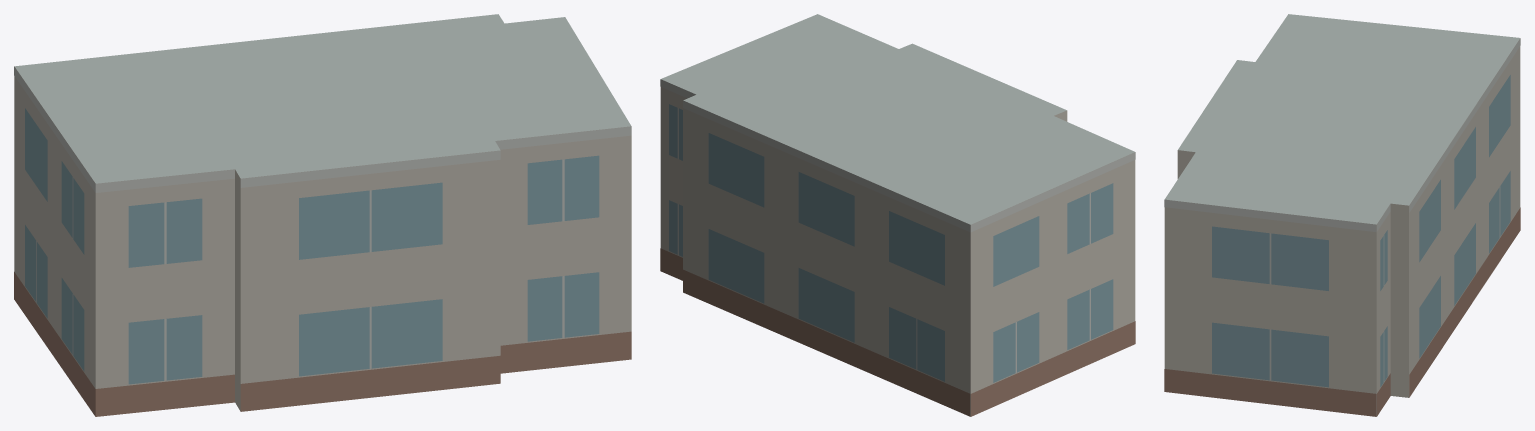
The model's file is survey-upis-32816614.glb.
3 views of the same model, side by side, from view 1: azimuth 30°, elevation 25°; view 2: azimuth 150°, elevation 25°; view 3: azimuth 270°, elevation 25° (orthographic). The views are drawn at different scales.
Parts seen in each view (by area): view 1: survey-upis-32816614.tmp; view 2: survey-upis-32816614.tmp; view 3: survey-upis-32816614.tmp.
Part boxes in pixels (bbox=[...]): survey-upis-32816614.tmp: bbox=[14, 14, 631, 416]; survey-upis-32816614.tmp: bbox=[660, 14, 1135, 416]; survey-upis-32816614.tmp: bbox=[1164, 14, 1520, 416].
Bounding box in the file's own units: 14.33 × 6.1 × 10.24.
